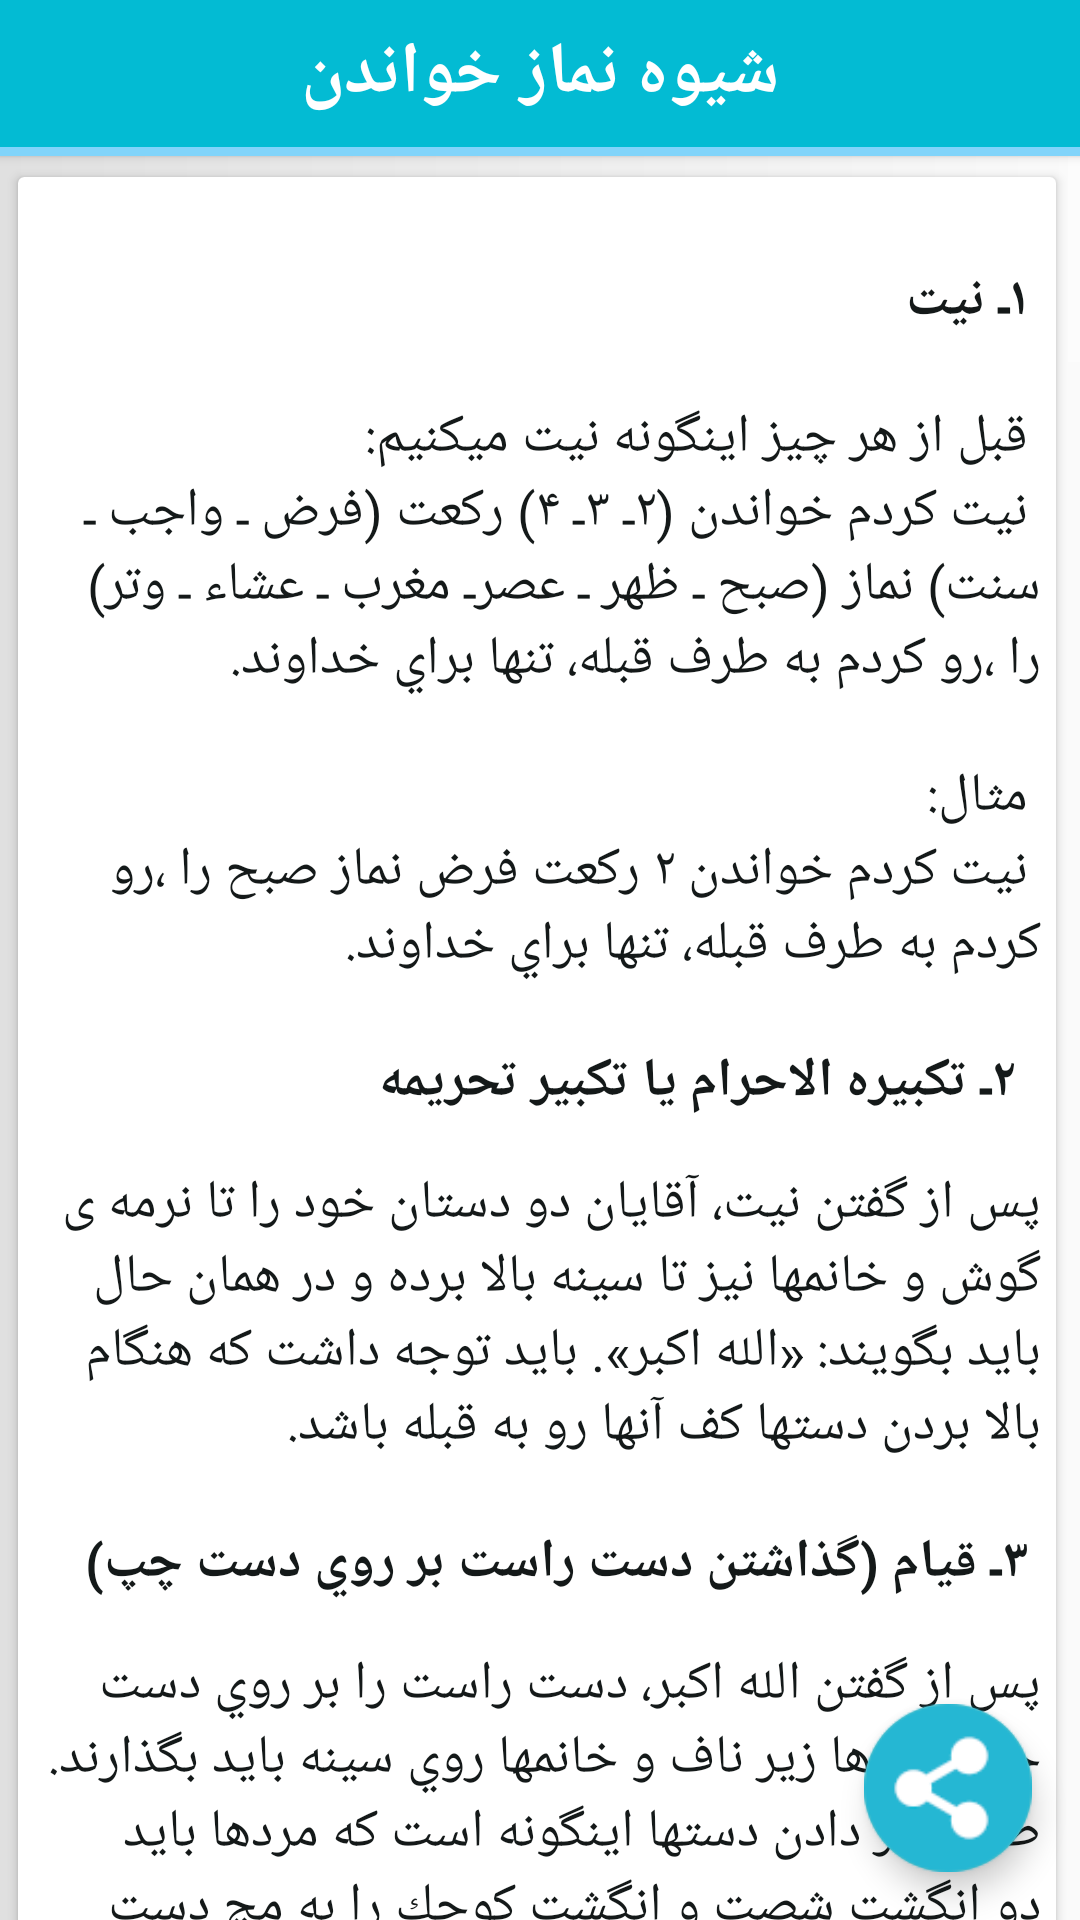

Where to tap for icons on this 1080x1920 app screen, as [x,y]:
share: [948,1788]
